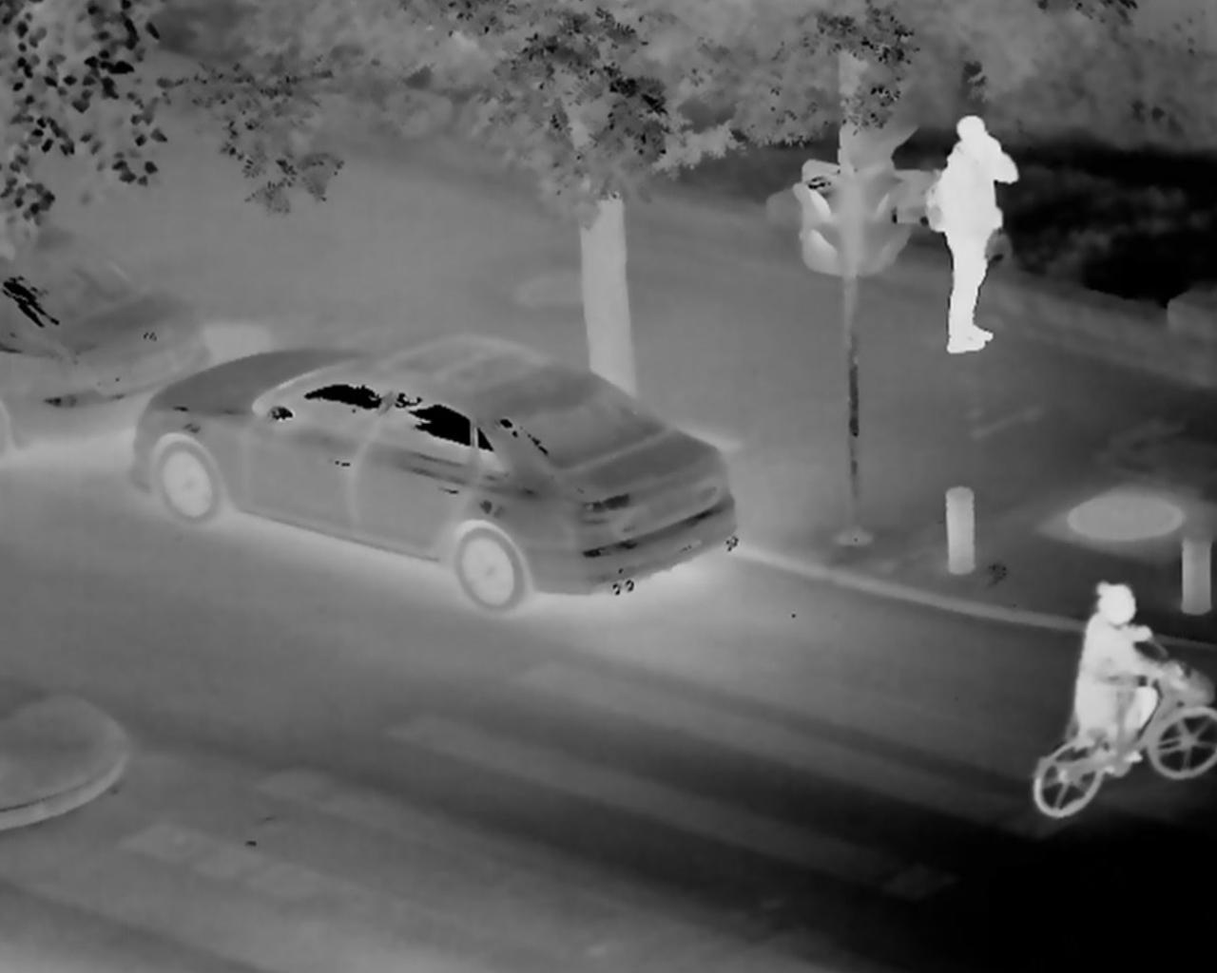person: (1054, 582, 1183, 775), (924, 113, 1008, 358)
